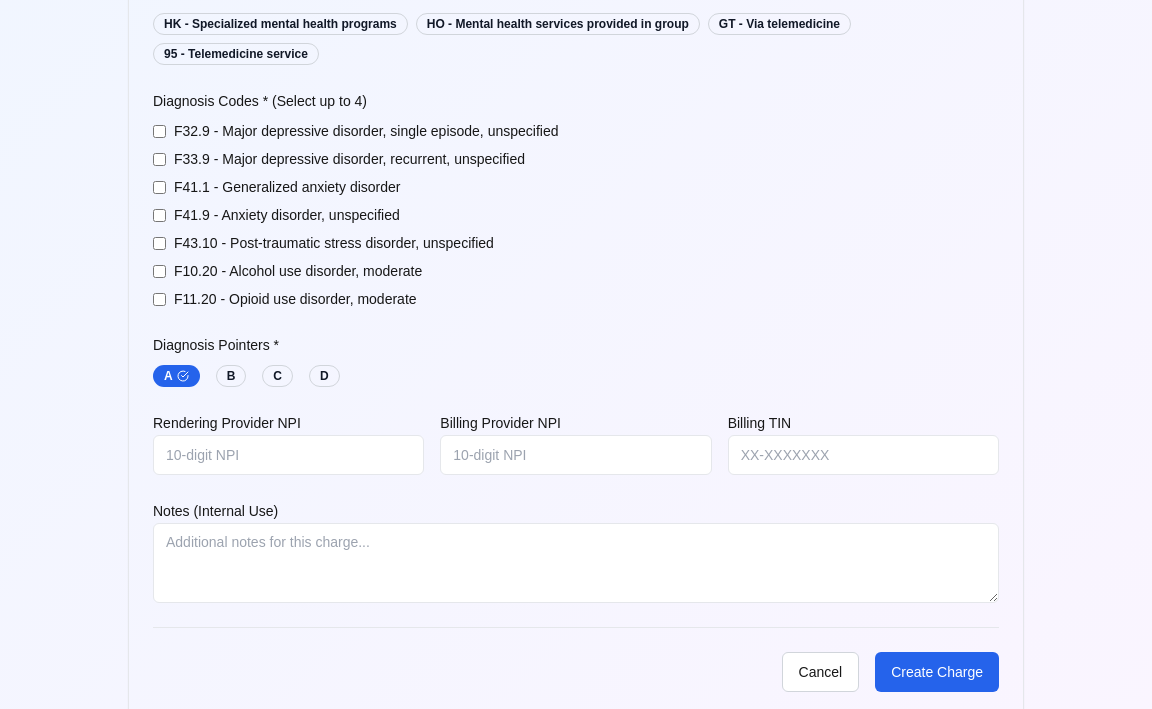
Scenario: ChargeForm › Form Validation › shows validation errors for empty required fields
The width and height of the screenshot is (1152, 709).
(page scrolled)
What coordinates should you click on to do the following:
click the button "Create Charge"
I would click on:
 (937, 672)
Its box is [875,652,999,692].
(page scrolled)
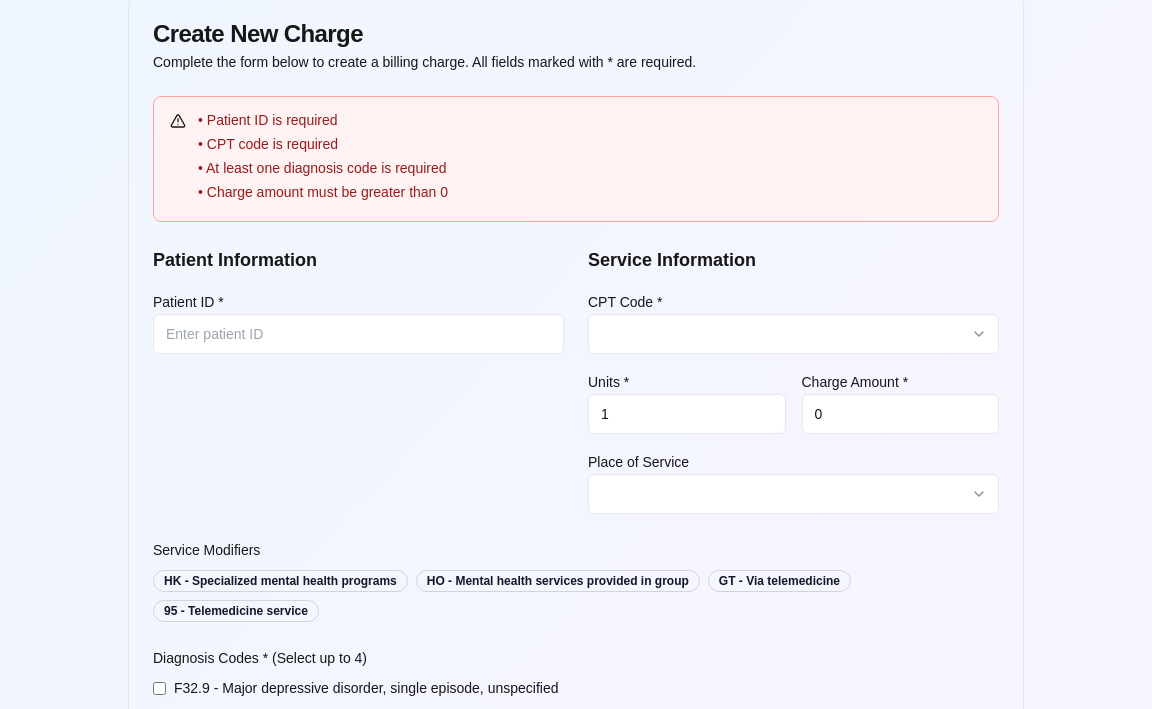
Check: the text "• Patient ID is required" is shown, box [198,112,338,128]
Check: the text "• CPT code is required" is shown, box [198,136,338,152]
Check: the text "• At least one diagnosis code is required" is shown, box [198,160,446,176]
